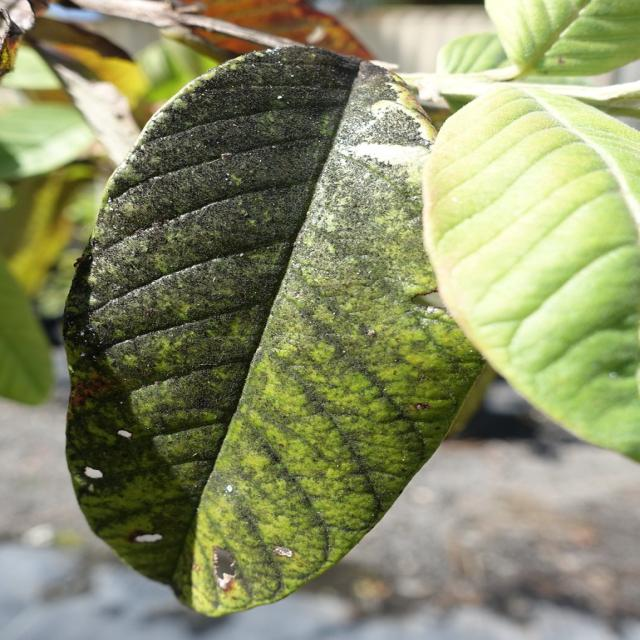Sooty Mold: (60, 42, 490, 618)
